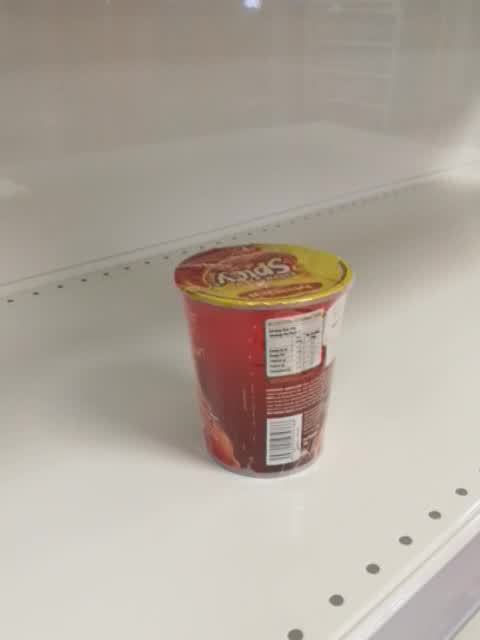maggi: (174, 242, 354, 479)
